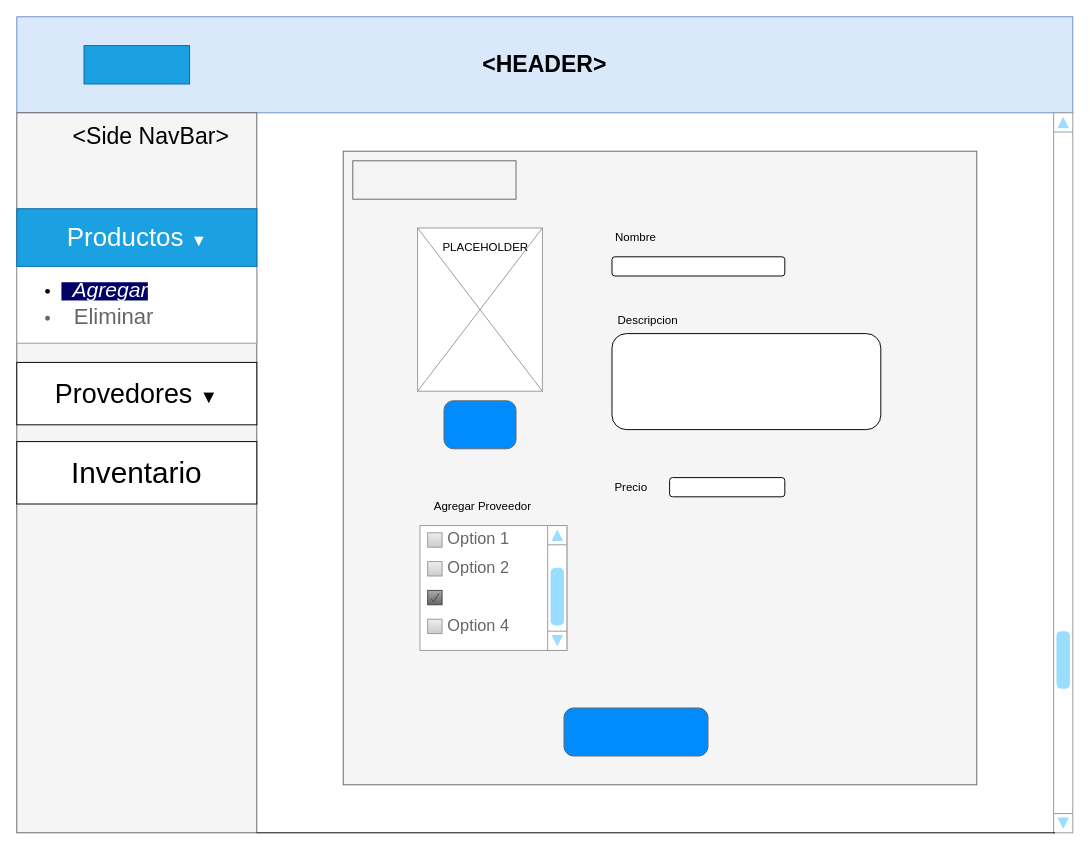
Some shapes in this 1090 by 851 pixel diagram are drawn without their labels. The shapes that lost their labels are listed below. From the top down, each one's centre as x and y in pixels, then its label:
At (x=136, y=64): "LOGO".
At (x=434, y=179): "<CrearProducto>".
At (x=479, y=424): "Agregar imagen +".
At (x=434, y=597): "Option 3".
At (x=635, y=731): "Agregar Producto".
